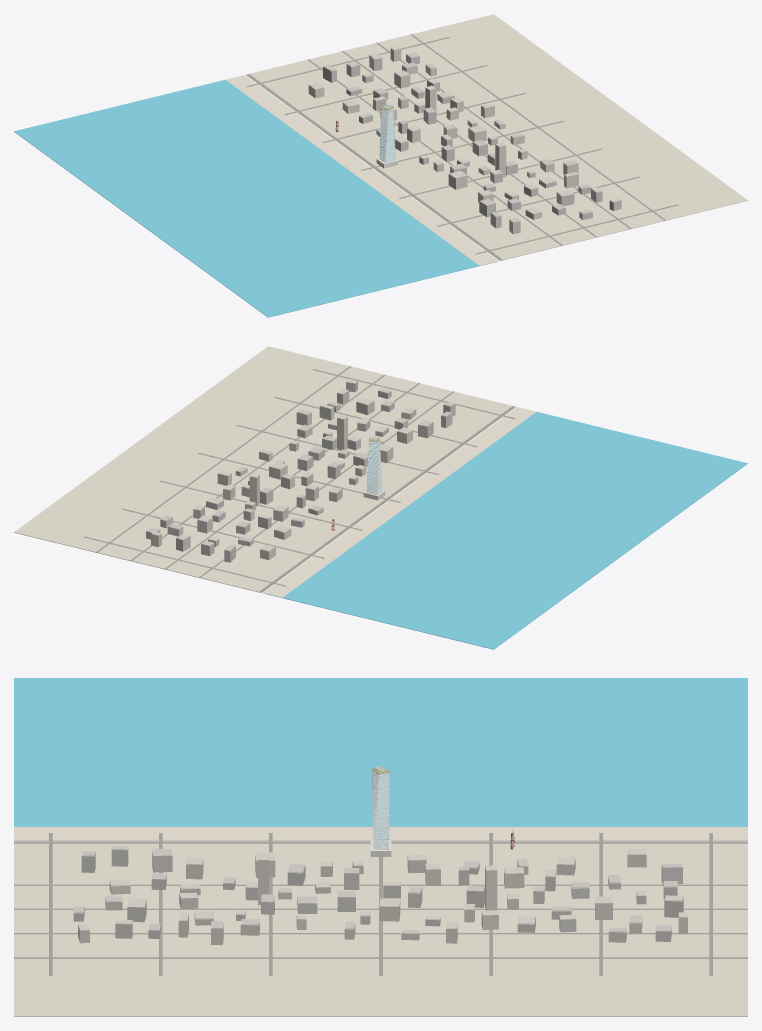
File: rainbow.glb
3 renders of one model, top to bottom at view 1: azimuth 30°, elevation 25°; view 2: azimuth 150°, elevation 25°; view 3: azimuth 270°, elevation 25°, orthographic. The views are drawn at different scales.
Parts seen in each view (by area): view 1: scene; view 2: scene; view 3: scene.
Part boxes in pixels (x1=…): scene: x1=14, y1=14, x2=747, y2=317; scene: x1=14, y1=346, x2=747, y2=649; scene: x1=14, y1=678, x2=747, y2=1016.
Size of the model in its own units: 1090 by 129 by 1000.
